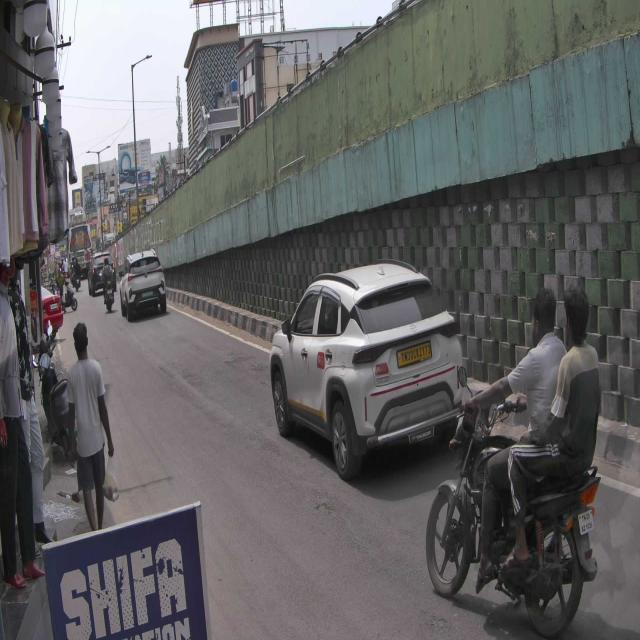double_rider: (426, 282, 601, 637)
